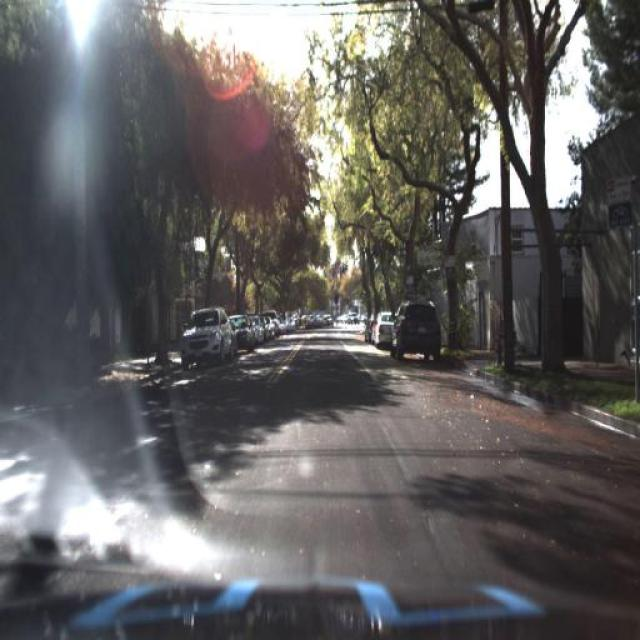car: (386, 295, 446, 365), (176, 300, 232, 370), (394, 296, 444, 354), (372, 306, 397, 346), (372, 306, 392, 350)
